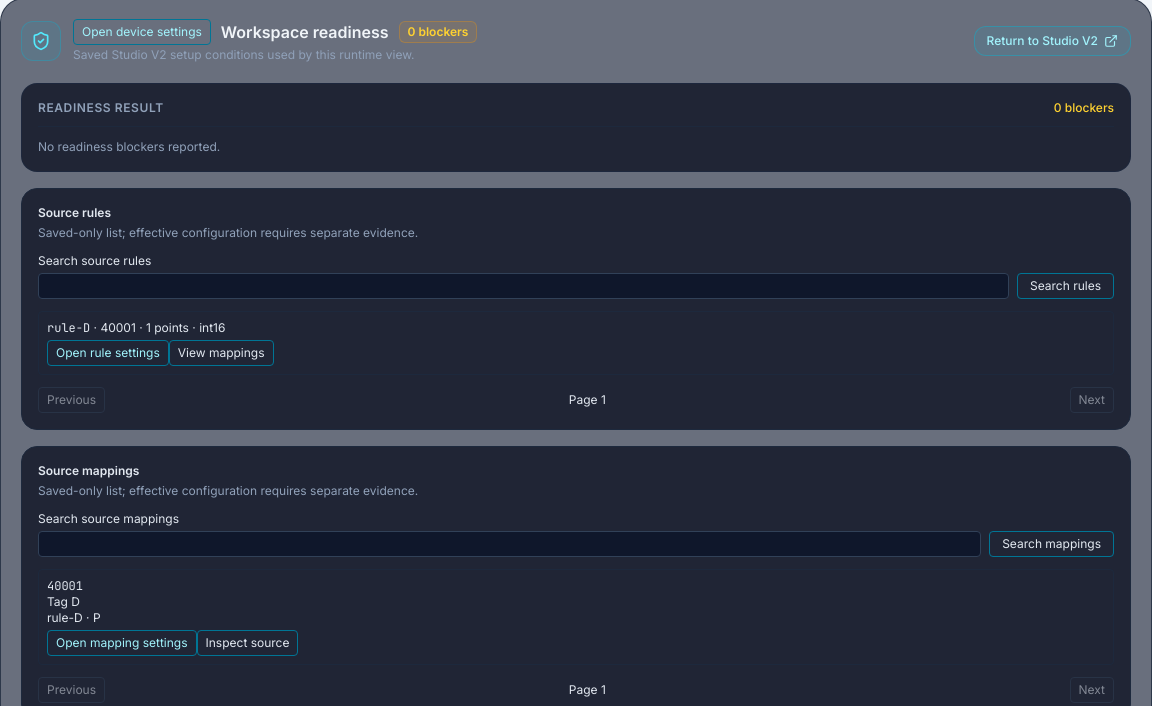
single selected-device source inspection › renders safe unavailable failure and allows only a read-only refresh
The image size is (1152, 706).
Click the button with aria-label "Inspect source 40001": (248, 643) [196,630,298,656]
(page scrolled)
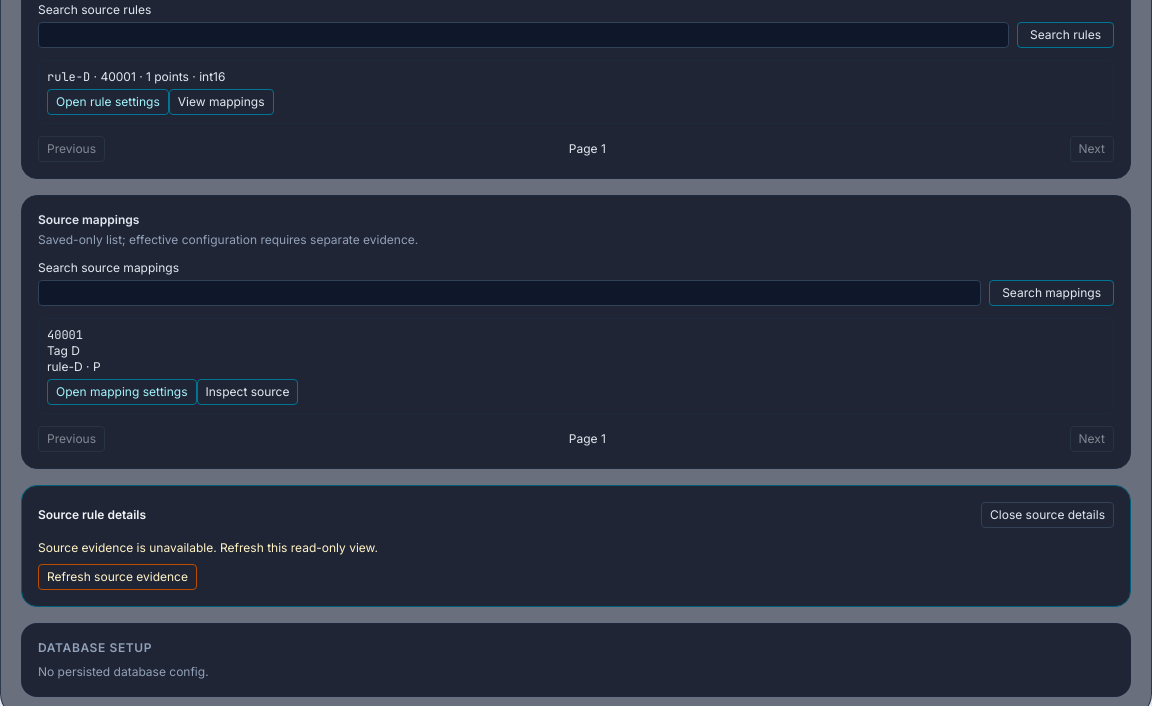
Click the button "Refresh source evidence": (118, 577) [38,564,197,590]
(page scrolled)
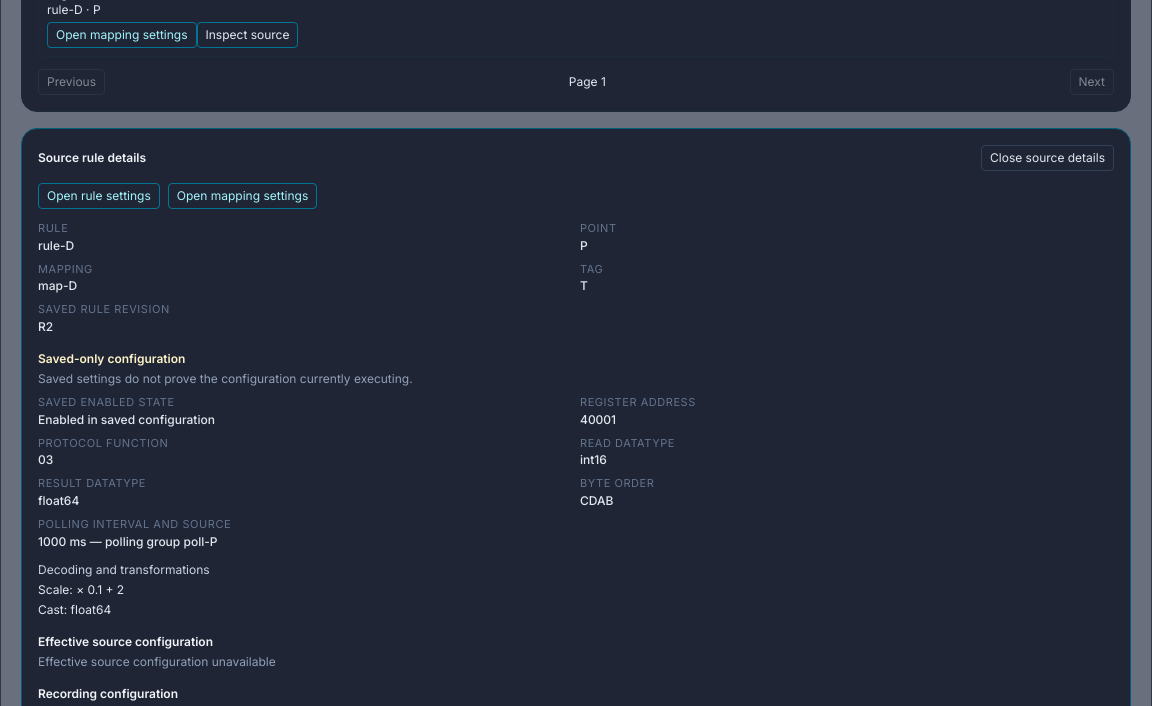
expect the heading "Saved-only configuration" is shown: met, box [38,351,185,366]
